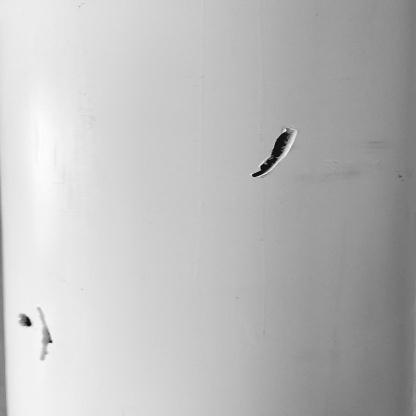fengxi: (37, 299, 55, 365)
kongdong: (248, 129, 301, 177), (13, 307, 36, 334)
